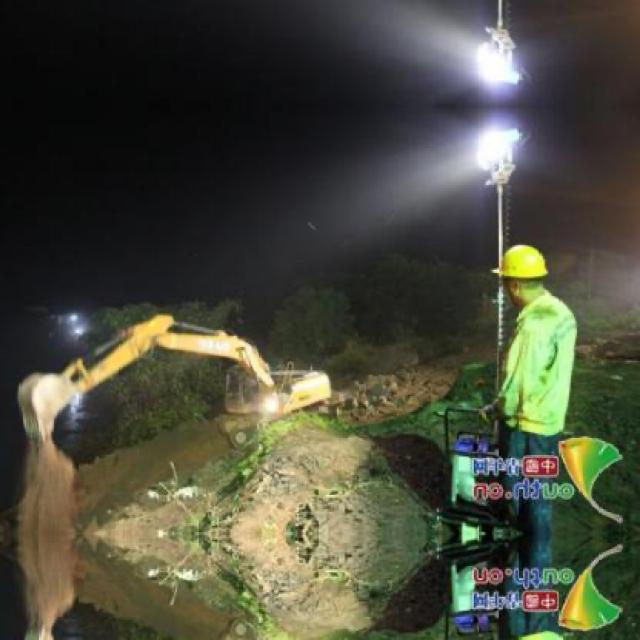helmet: (494, 240, 551, 304)
